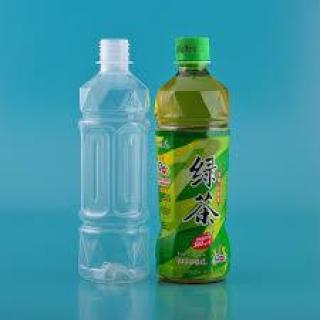Plastic-bottle: (155, 37, 233, 288), (77, 38, 155, 288)
